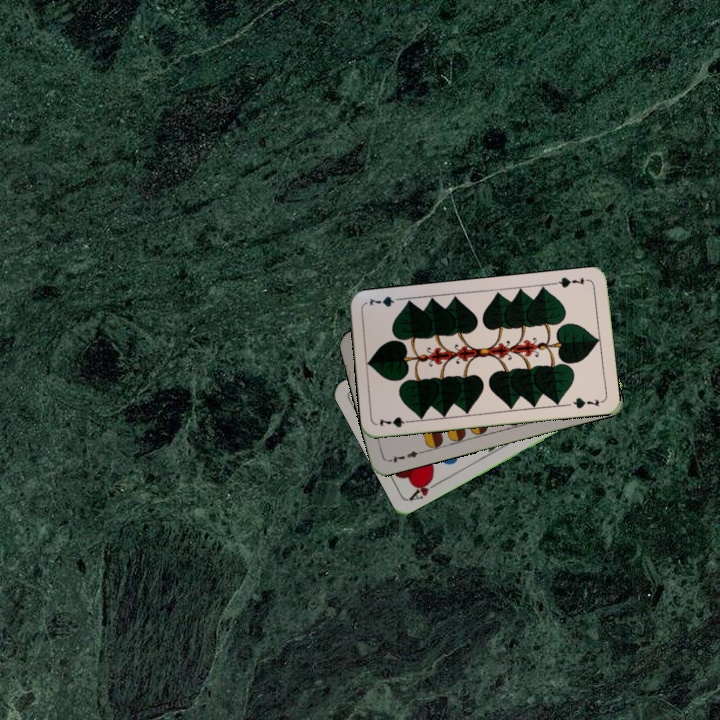E7: (385, 447, 425, 466)
G7: (375, 413, 416, 430), (550, 273, 591, 290)
HA: (405, 473, 443, 503)
